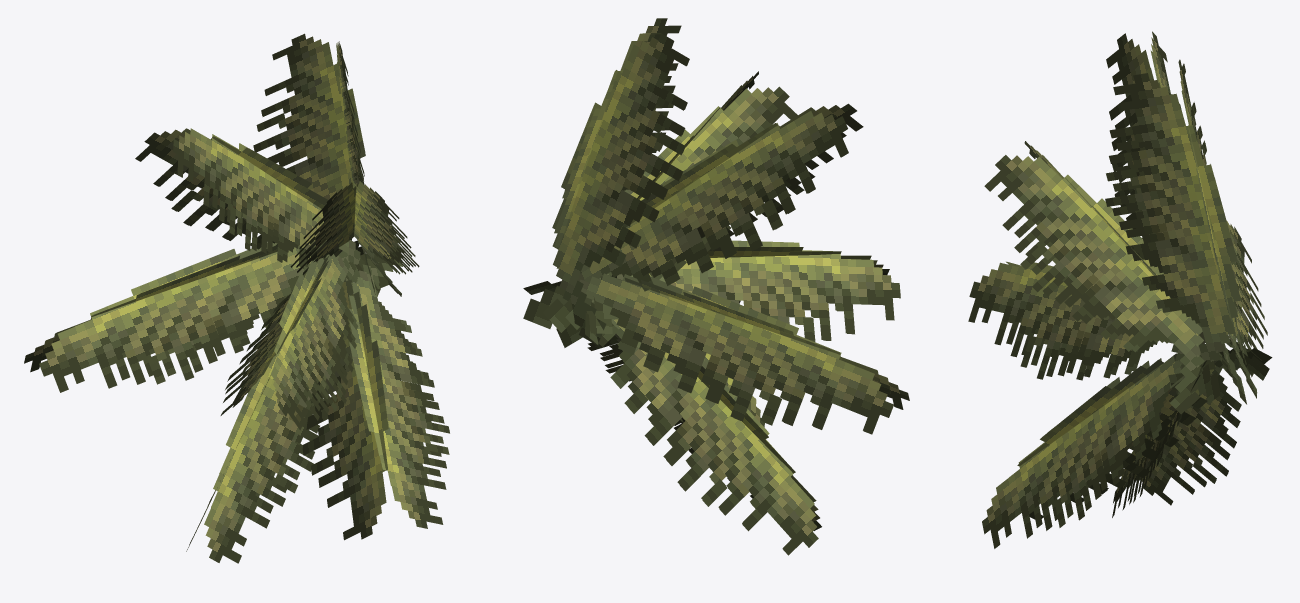
The model's file is palm_leaves_large_5.obj.
3 renders of one model, left to right at view 1: azimuth 30°, elevation 25°; view 2: azimuth 150°, elevation 25°; view 3: azimuth 270°, elevation 25°, orthographic. The views are drawn at different scales.
Parts seen in each view (by area): view 1: Frond.042_Cube.005, Frond.040_Cube.005, Frond.038_Cube.005, Frond.041_Cube.005, Frond.045_Cube.006, Frond.043_Cube.005, Frond.039_Cube.005; view 2: Frond.040_Cube.005, Frond.045_Cube.006, Frond.038_Cube.005, Frond.043_Cube.005, Frond.041_Cube.005, Frond.039_Cube.005, Frond.042_Cube.005; view 3: Frond.045_Cube.006, Frond.039_Cube.005, Frond.042_Cube.005, Frond.041_Cube.005, Frond.043_Cube.005, Frond.038_Cube.005, Frond.040_Cube.005.
Boxes of the visible parts, x1,y1,x2,y2 form: Frond.042_Cube.005: (302, 254, 449, 540); Frond.040_Cube.005: (24, 239, 388, 392); Frond.038_Cube.005: (135, 128, 364, 270); Frond.041_Cube.005: (220, 254, 380, 430); Frond.045_Cube.006: (253, 33, 375, 294); Frond.043_Cube.005: (186, 270, 384, 563); Frond.039_Cube.005: (290, 181, 419, 296); Frond.040_Cube.005: (523, 273, 909, 434); Frond.045_Cube.006: (552, 18, 689, 345); Frond.038_Cube.005: (556, 103, 863, 347); Frond.043_Cube.005: (543, 298, 821, 555); Frond.041_Cube.005: (586, 240, 900, 341); Frond.039_Cube.005: (580, 71, 797, 346); Frond.042_Cube.005: (523, 281, 764, 427); Frond.045_Cube.006: (1105, 59, 1253, 391); Frond.039_Cube.005: (984, 141, 1232, 414); Frond.042_Cube.005: (982, 348, 1272, 548); Frond.041_Cube.005: (968, 261, 1261, 394); Frond.043_Cube.005: (1112, 350, 1269, 517); Frond.038_Cube.005: (1106, 31, 1246, 404); Frond.040_Cube.005: (1191, 221, 1267, 398).
Size of the model in its own units: 4.1 by 5.25 by 2.94.
